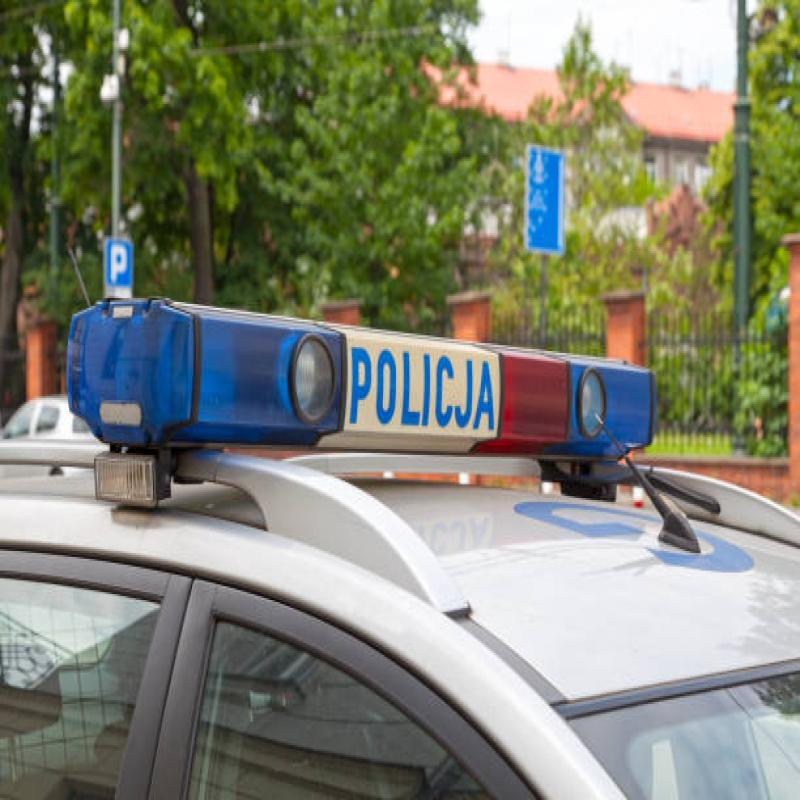AmbulanceSiren: (58, 285, 675, 489)
